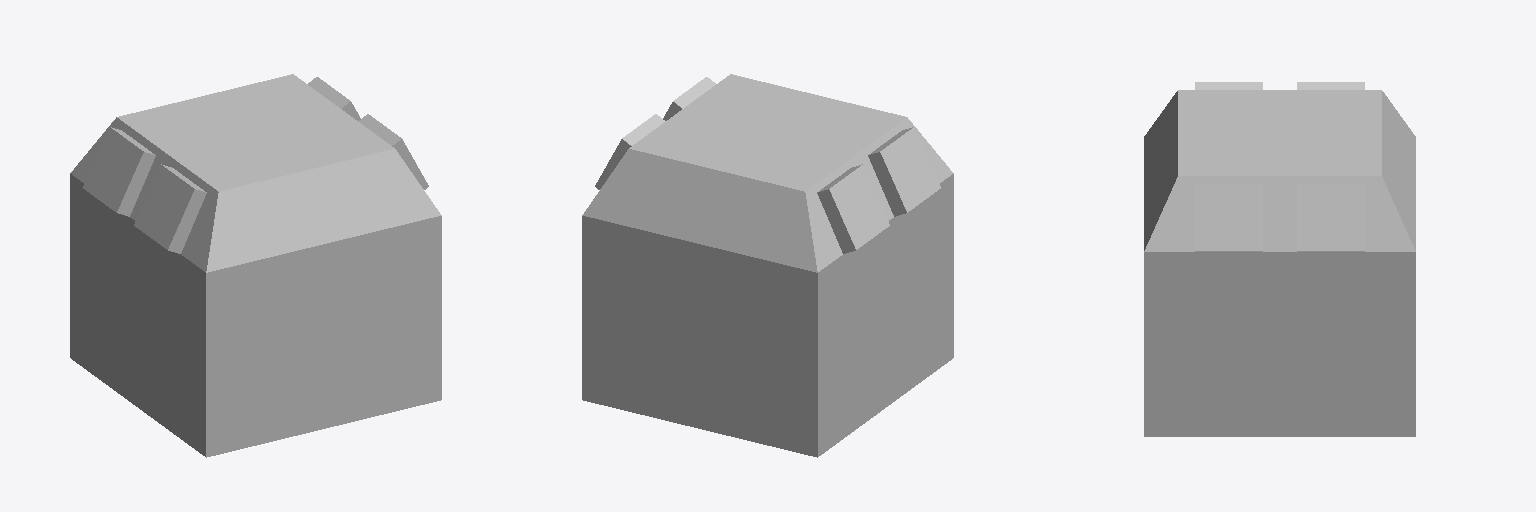
Rendered from alchemical_engine.obj.
3 views of the same model, side by side, from view 1: azimuth 30°, elevation 25°; view 2: azimuth 150°, elevation 25°; view 3: azimuth 270°, elevation 25° (orthographic).
Visible parts, largest first — view 1: cube, cube2, cube1, cube3, cube4; view 2: cube, cube1, cube2, cube4, cube3; view 3: cube, cube3, cube4, cube1, cube2.
Part boxes in pixels (left/top/right/bottom): cube: left=70, top=74, right=441, bottom=457; cube2: left=83, top=127, right=155, bottom=216; cube1: left=134, top=164, right=206, bottom=253; cube3: left=358, top=114, right=428, bottom=189; cube4: left=308, top=77, right=360, bottom=120; cube: left=582, top=74, right=953, bottom=457; cube1: left=868, top=127, right=940, bottom=216; cube2: left=817, top=164, right=889, bottom=253; cube4: left=595, top=114, right=665, bottom=189; cube3: left=663, top=77, right=715, bottom=120; cube: left=1144, top=90, right=1415, bottom=436; cube3: left=1195, top=183, right=1262, bottom=251; cube4: left=1297, top=183, right=1364, bottom=251; cube1: left=1195, top=82, right=1262, bottom=89; cube2: left=1297, top=82, right=1364, bottom=89.
Bounding box in the file's own units: 1.11 × 1 × 1.